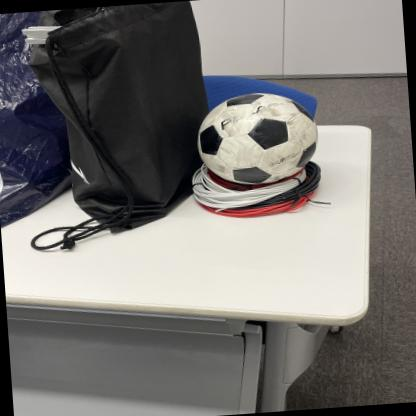ball: (195, 90, 320, 189)
